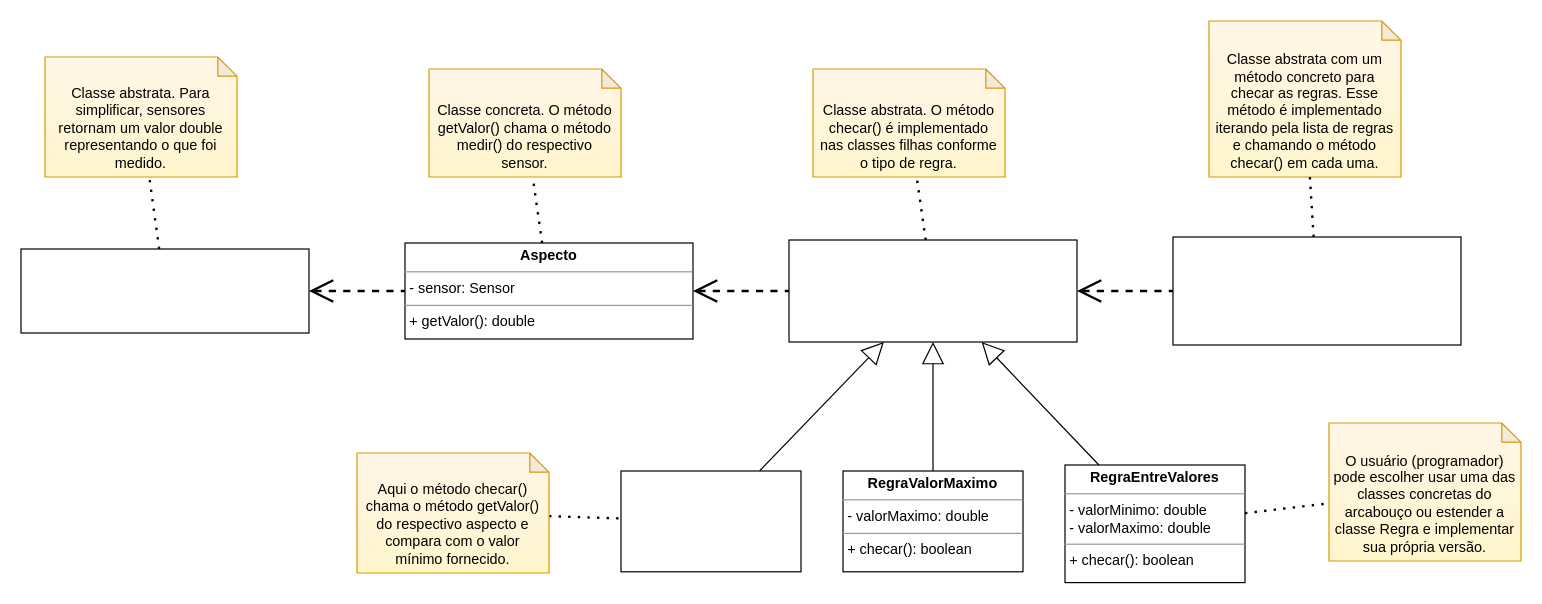
This 1542x604 diagram has some shape labels left out. The centre of each missing label's shape, as x and y in pixels:
"Regra # aspecto: Aspecto + checar(): boolean" belongs at [932,290].
"RegraValorMinimo - valorMinimo: double + checar(): boolean" belongs at [710,521].
"Sensor + medir(): double" belongs at [164,290].
"VerificadorDeProduto - regras: List<Regra> + checarRegras(): boolean" belongs at [1316,290].
